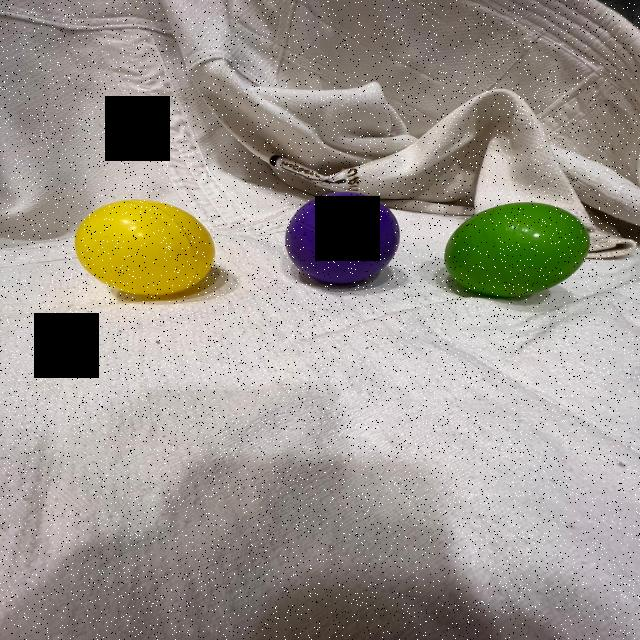ball: (442, 200, 591, 300), (74, 197, 217, 298), (282, 189, 400, 288)
